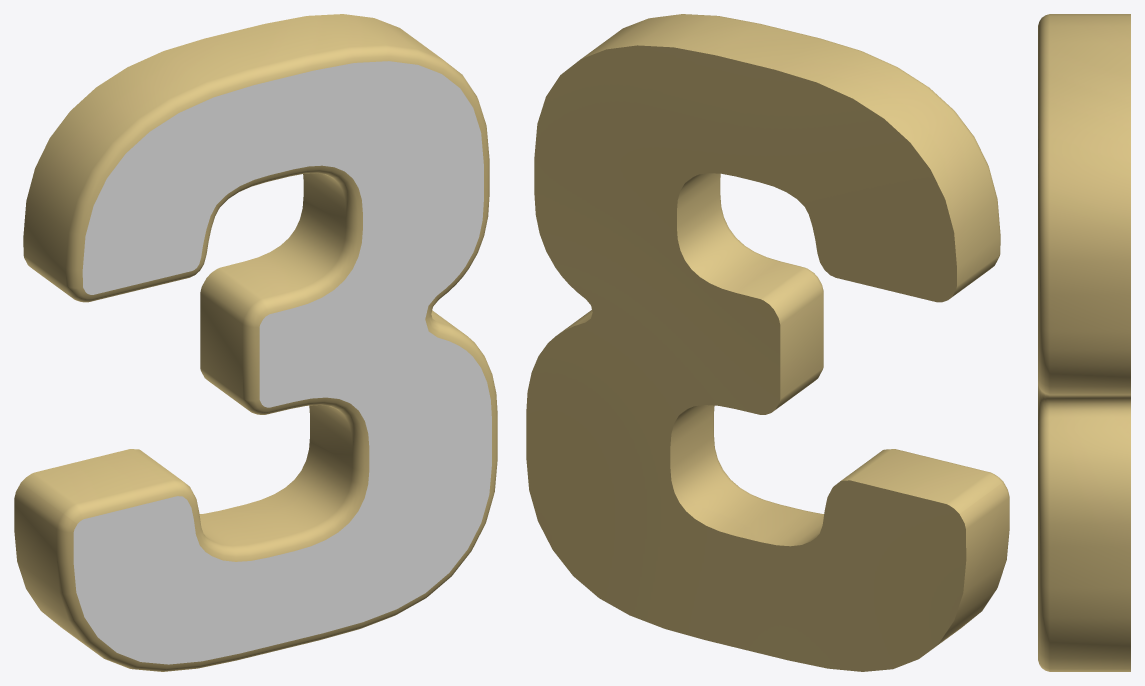
The model's file is LettersLightUp02_3.FBX.
3 views of the same model, side by side, from view 1: azimuth 30°, elevation 25°; view 2: azimuth 150°, elevation 25°; view 3: azimuth 270°, elevation 25° (orthographic). The views are drawn at different scales.
Parts seen in each view (by area): view 1: LettersLightUp02_3; view 2: LettersLightUp02_3; view 3: LettersLightUp02_3.
Part boxes in pixels (left/top/right/bottom): LettersLightUp02_3: left=14, top=14, right=497, bottom=671; LettersLightUp02_3: left=526, top=14, right=1009, bottom=671; LettersLightUp02_3: left=1038, top=14, right=1130, bottom=671.
Size of what is drawn, in the model's own units: 0.4766 by 0.608 by 0.0912.
